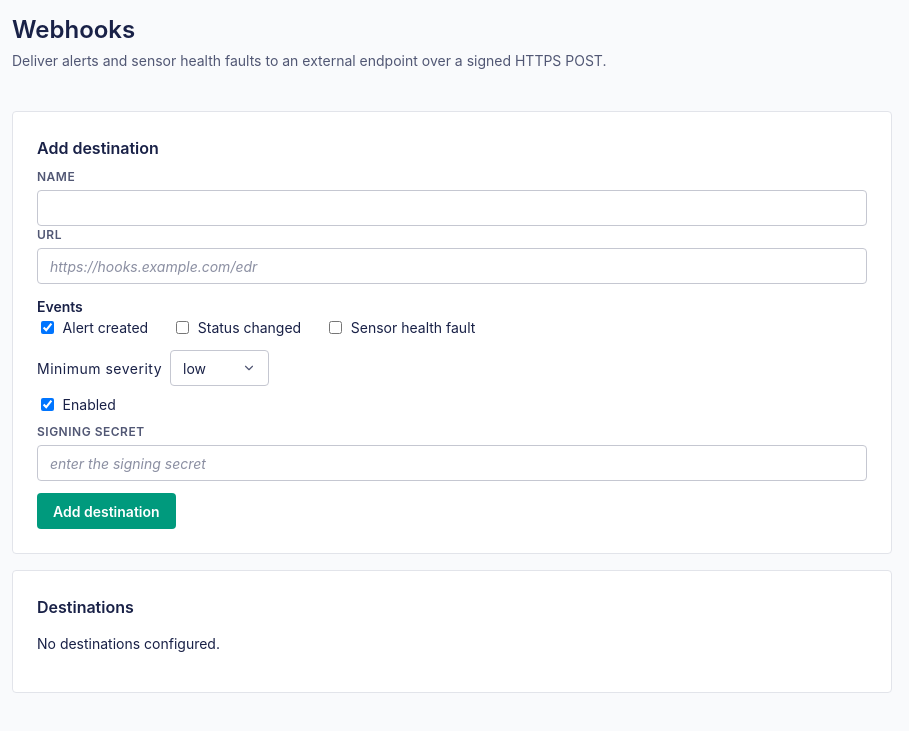
it: Webhooks › surfaces a save error
Expected: the text "No destinations configured." is shown, left=37, top=635, right=220, bottom=652
In the field labelled "Name": [452, 208] box left=37, top=190, right=867, bottom=226, type "x"
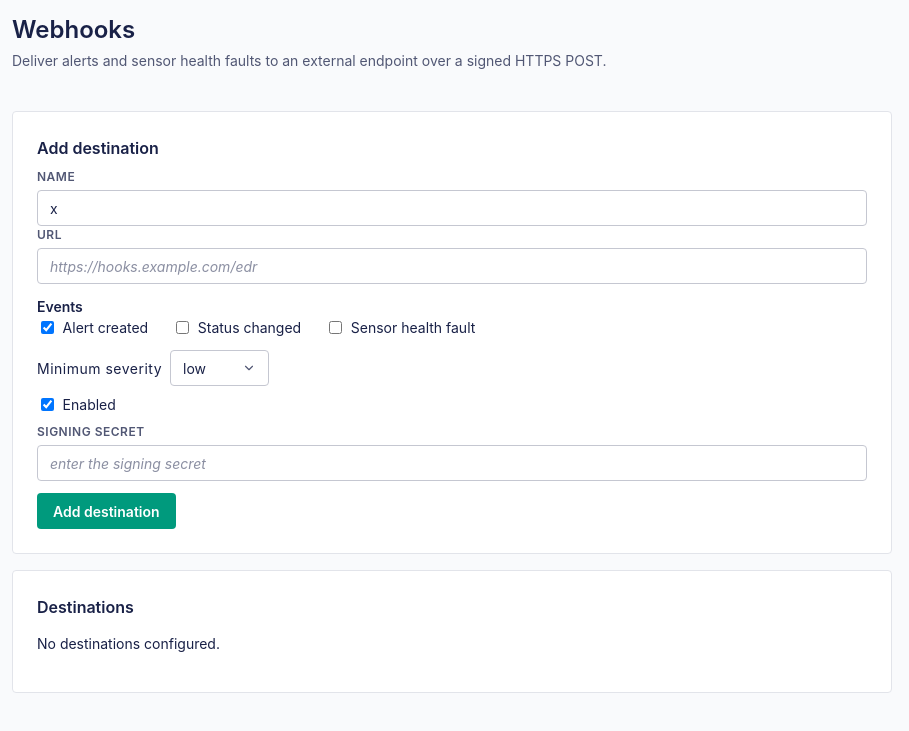
In the field labelled "URL": [452, 266] box left=37, top=248, right=867, bottom=284, type "https://ok.example.com"
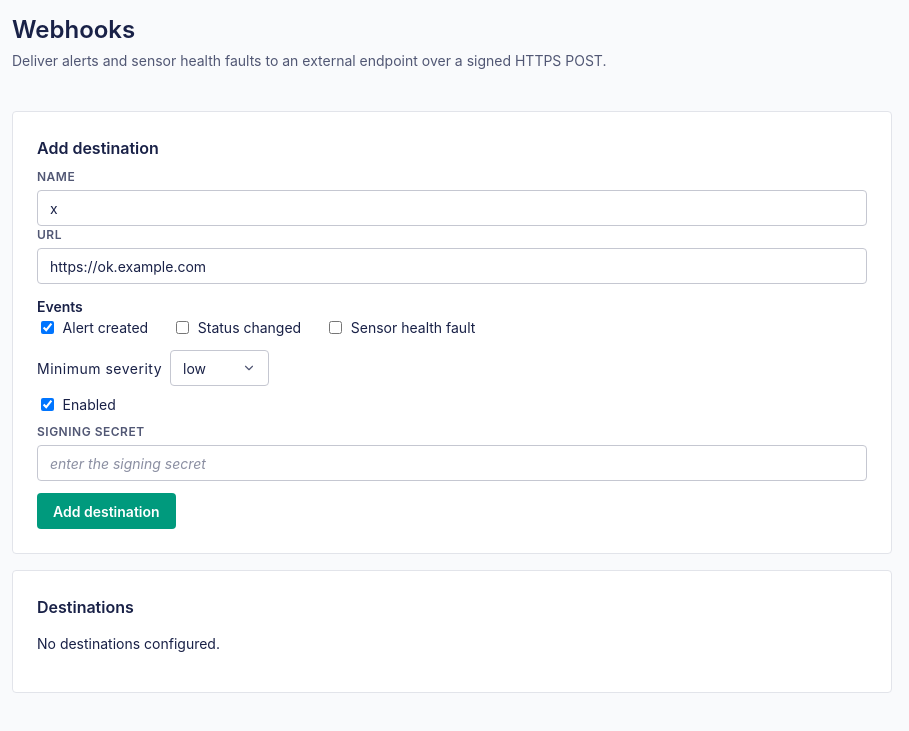
In the password field labelled "Signing secret": [452, 463] box left=37, top=445, right=867, bottom=481, type "s"
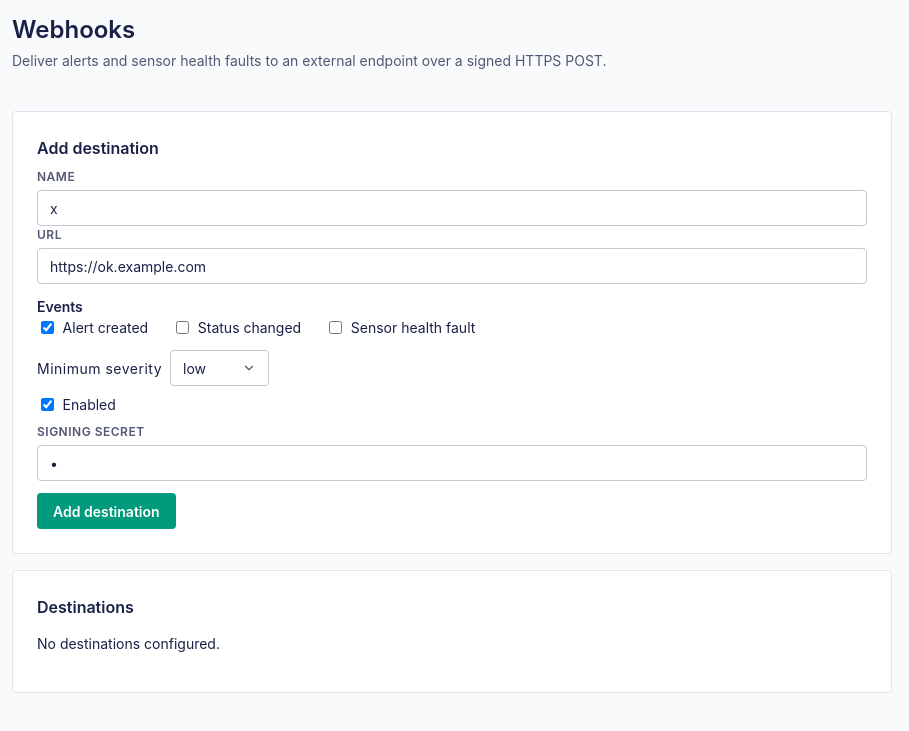
Click the button "Add destination": [106, 511] box left=37, top=493, right=176, bottom=529
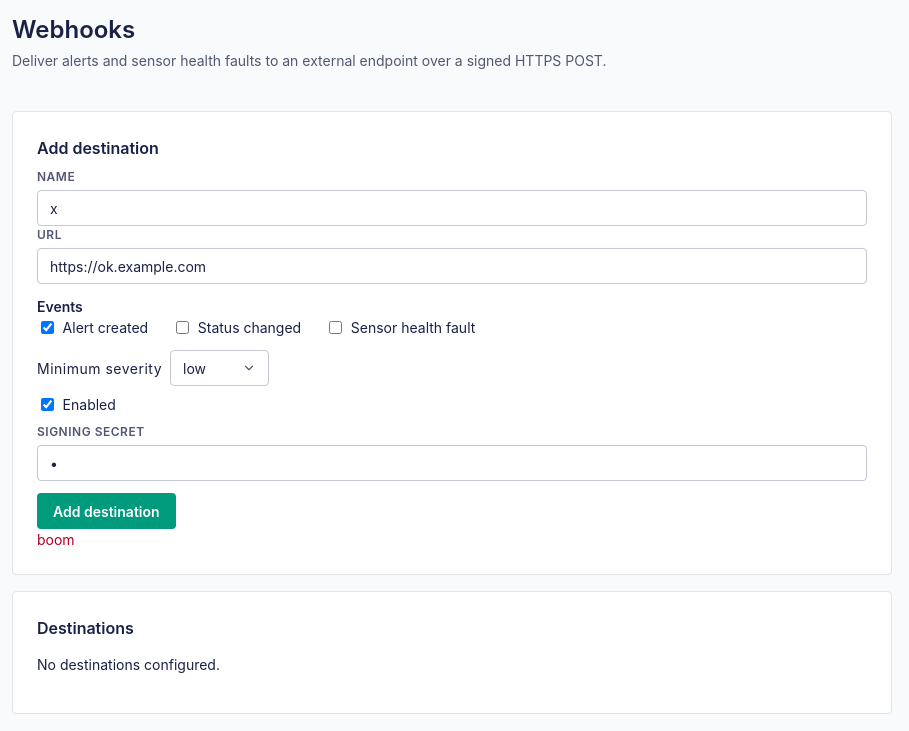
Expected: the text "boom" is shown, left=37, top=531, right=75, bottom=548
